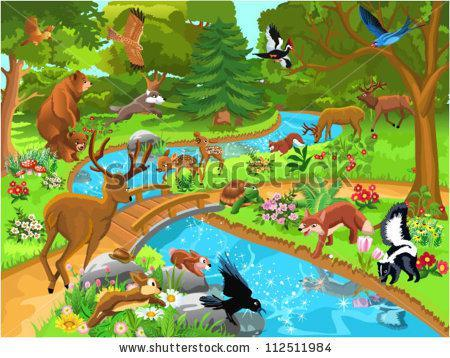bird: (196, 254, 267, 327), (357, 5, 427, 52), (103, 6, 149, 71), (248, 23, 296, 69), (17, 16, 53, 47)
